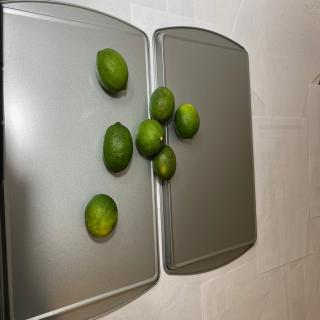Lemon: (102, 121, 133, 173), (84, 193, 118, 238), (95, 48, 128, 93), (135, 118, 165, 156), (173, 103, 200, 140), (149, 86, 175, 123), (152, 145, 176, 181)
